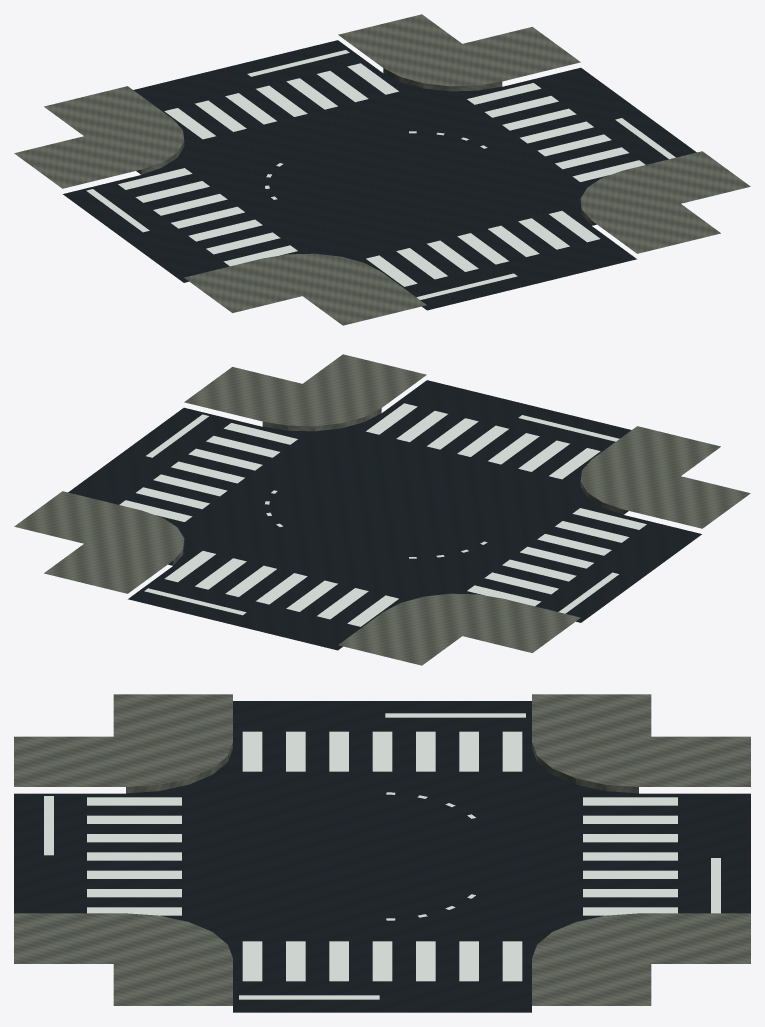
Rendered from junc_cross_2x2_LOD1.glb.
3 views of the same model, one above another, from view 1: azimuth 30°, elevation 25°; view 2: azimuth 150°, elevation 25°; view 3: azimuth 270°, elevation 25° (orthographic). The views are drawn at different scales.
Visible parts, largest first — view 1: junc_cross_2x2__surface.001, junc_cross_2x2__rounded_corner_curb.001, junc_cross_2x2__crosswalk_paint.001, junc_cross_2x2__stop_line_paint.001; view 2: junc_cross_2x2__surface.001, junc_cross_2x2__rounded_corner_curb.001, junc_cross_2x2__crosswalk_paint.001, junc_cross_2x2__stop_line_paint.001; view 3: junc_cross_2x2__surface.001, junc_cross_2x2__rounded_corner_curb.001, junc_cross_2x2__crosswalk_paint.001, junc_cross_2x2__stop_line_paint.001.
Part boxes in pixels (<box>): junc_cross_2x2__surface.001: <box>63,40,696,310</box>; junc_cross_2x2__rounded_corner_curb.001: <box>14,14,750,325</box>; junc_cross_2x2__crosswalk_paint.001: <box>118,63,645,286</box>; junc_cross_2x2__stop_line_paint.001: <box>86,50,675,299</box>; junc_cross_2x2__surface.001: <box>68,380,701,650</box>; junc_cross_2x2__rounded_corner_curb.001: <box>14,354,750,665</box>; junc_cross_2x2__crosswalk_paint.001: <box>119,403,646,626</box>; junc_cross_2x2__stop_line_paint.001: <box>144,414,619,615</box>; junc_cross_2x2__surface.001: <box>14,701,750,1012</box>; junc_cross_2x2__rounded_corner_curb.001: <box>14,694,750,1005</box>; junc_cross_2x2__crosswalk_paint.001: <box>87,731,677,981</box>; junc_cross_2x2__stop_line_paint.001: <box>44,713,720,999</box>.
Bounding box in the file's own units: 14.8 × 0.145 × 14.8.
Materials: 4 (3 with a texture image).
